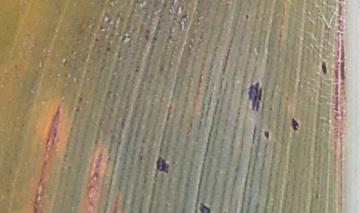tarspot: (246, 80, 262, 114), (154, 154, 170, 174), (177, 13, 189, 33), (197, 201, 211, 213), (102, 10, 112, 26), (290, 116, 299, 132), (320, 60, 328, 75), (120, 33, 130, 45), (262, 129, 270, 140), (61, 57, 69, 68), (98, 25, 108, 33), (242, 13, 250, 22), (93, 36, 102, 43), (138, 153, 144, 163), (144, 27, 151, 35), (314, 190, 319, 200), (74, 106, 81, 113), (151, 35, 158, 42), (105, 46, 111, 53), (133, 68, 140, 74), (106, 89, 112, 96), (80, 57, 86, 64), (77, 96, 82, 104), (144, 34, 149, 42), (172, 16, 178, 22), (107, 2, 113, 8)
